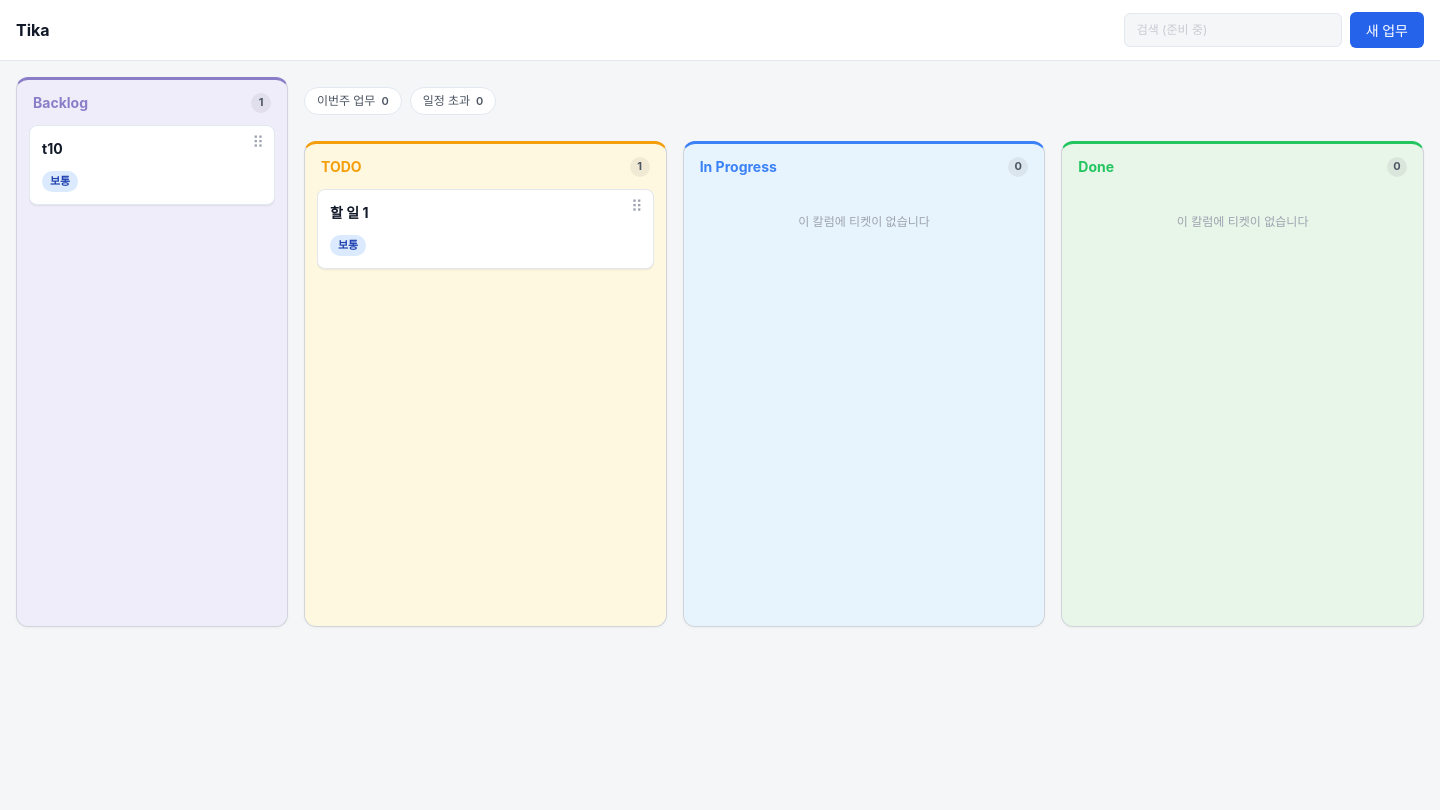
Test: BoardContainer › 생성 모달에서 취소하면 닫힌다
Step 1. Click the button "새 업무" → click(1387, 30), box [1350,12,1424,48]
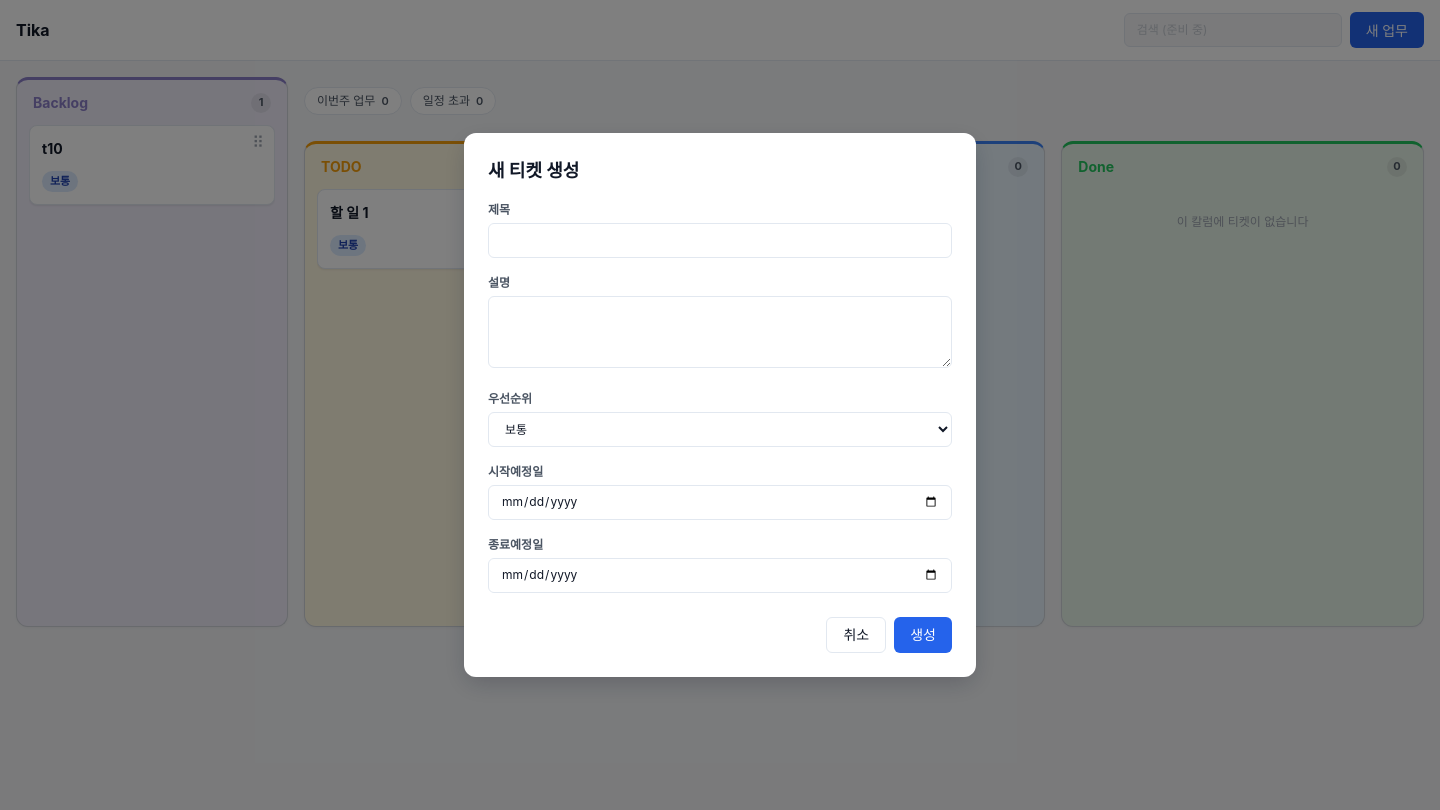
Check: the heading "새 티켓 생성" is shown, box [488,160,579,181]
Step 2. Click the button "취소" → click(856, 635), box [826,617,886,653]
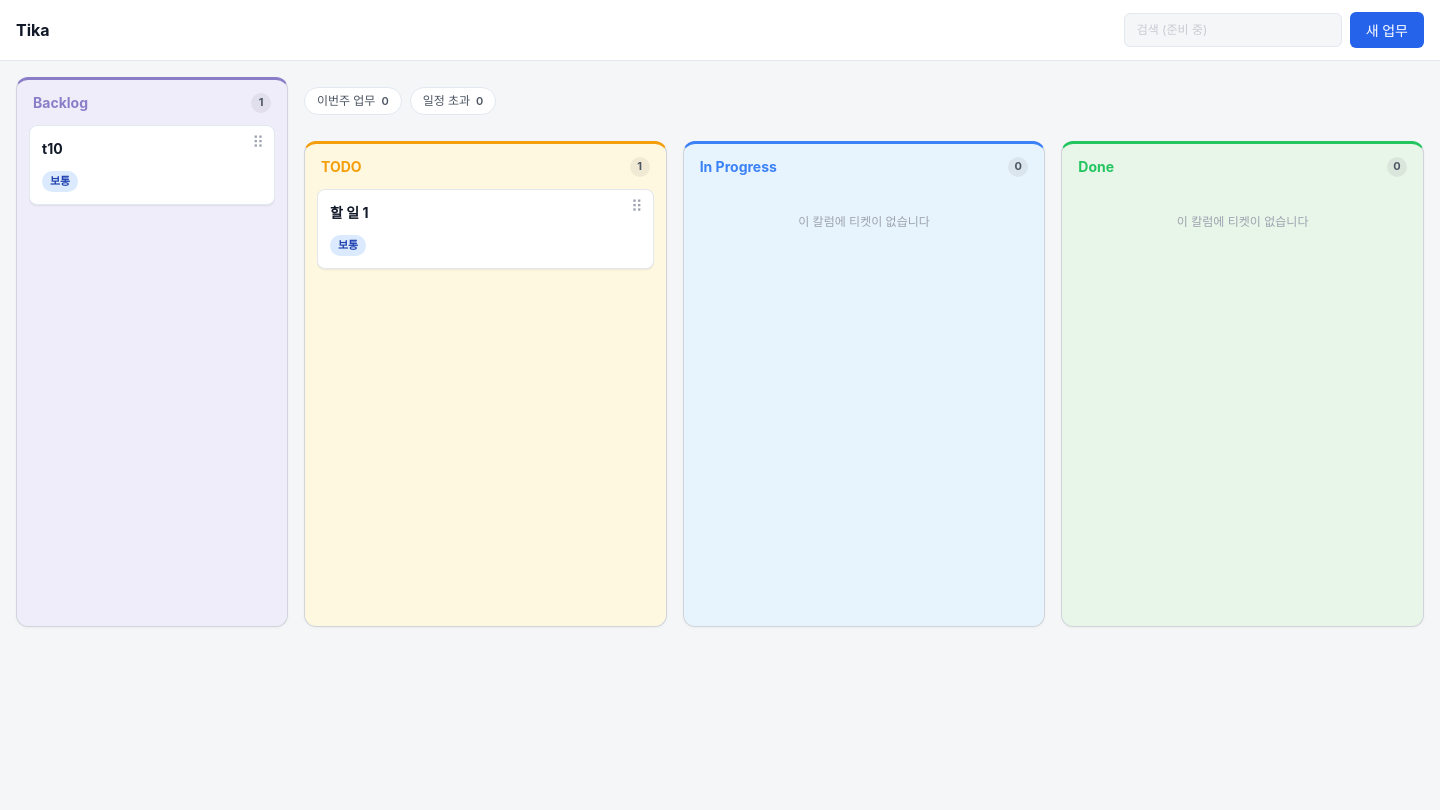
Check: the heading "새 티켓 생성" is gone
